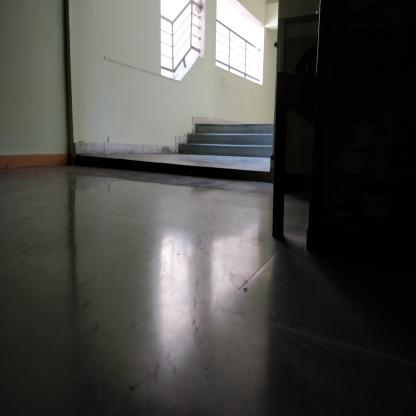stairs: (195, 122, 271, 159)
